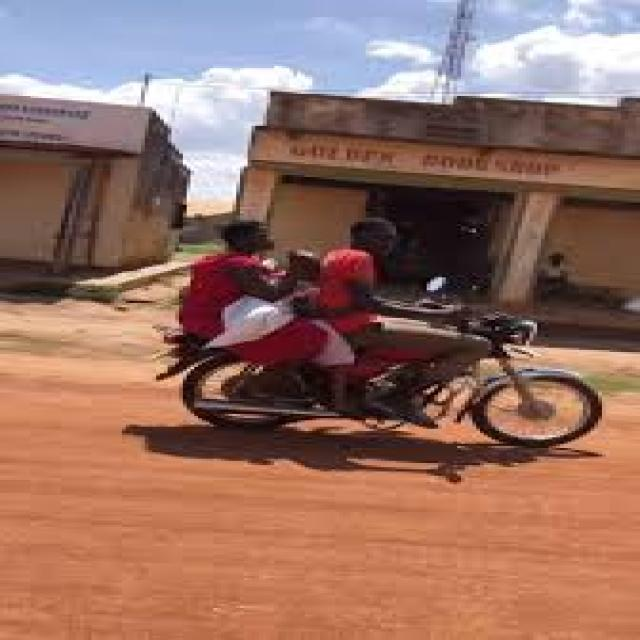bodaboda: (108, 258, 640, 464)
